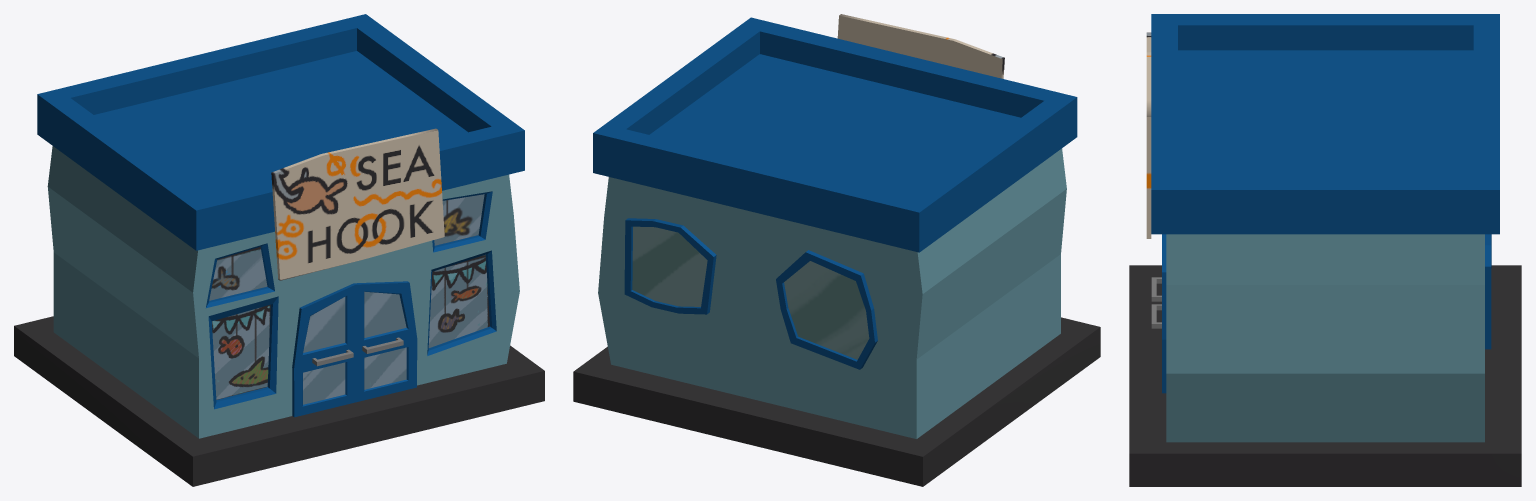
File: SM_SeaHook.fbx
The picture shows the model from 3 angles, left to right: view 1: azimuth 30°, elevation 25°; view 2: azimuth 150°, elevation 25°; view 3: azimuth 270°, elevation 25°; orthographic projection. The views are drawn at different scales.
Visible parts, largest first — view 1: fishHook, Cube.003, fishHook.003, fishHook.009; view 2: fishHook, Cube.003; view 3: fishHook, Cube.003, fishHook.009.
Part boxes in pixels (x1,y1,x2,y2): fishHook: (37, 14, 524, 438); Cube.003: (14, 316, 544, 486); fishHook.003: (292, 283, 355, 417); fishHook.009: (354, 281, 417, 402); fishHook: (593, 14, 1077, 438); Cube.003: (573, 317, 1100, 486); fishHook: (1146, 14, 1499, 442); Cube.003: (1129, 265, 1521, 486); fishHook.009: (1151, 234, 1166, 393).
Bounding box in the file's own units: 491 × 389 × 432.
